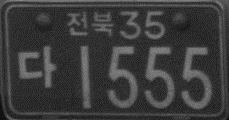1: (76, 42, 94, 111)
3: (118, 7, 142, 41)
5: (179, 46, 213, 111), (106, 44, 140, 108), (144, 45, 176, 109), (144, 9, 165, 40)
다: (15, 43, 57, 89)
전북_O: (64, 11, 115, 37)
